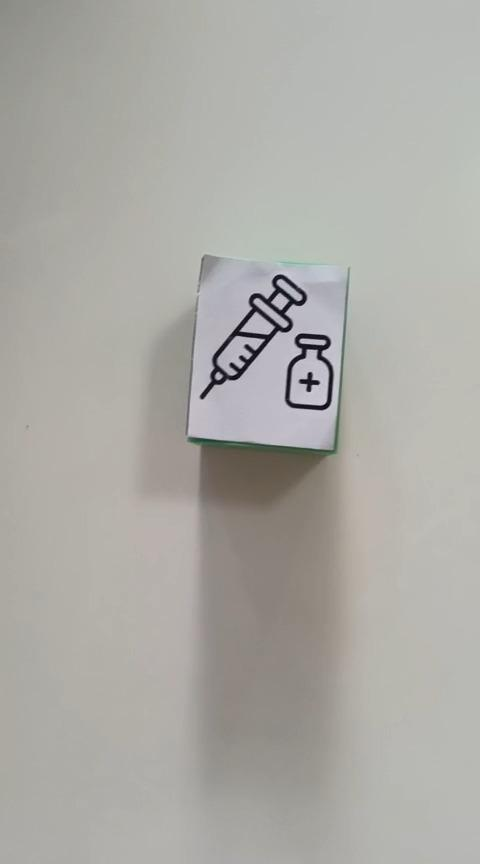antiseptic cream: (185, 253, 352, 455)
